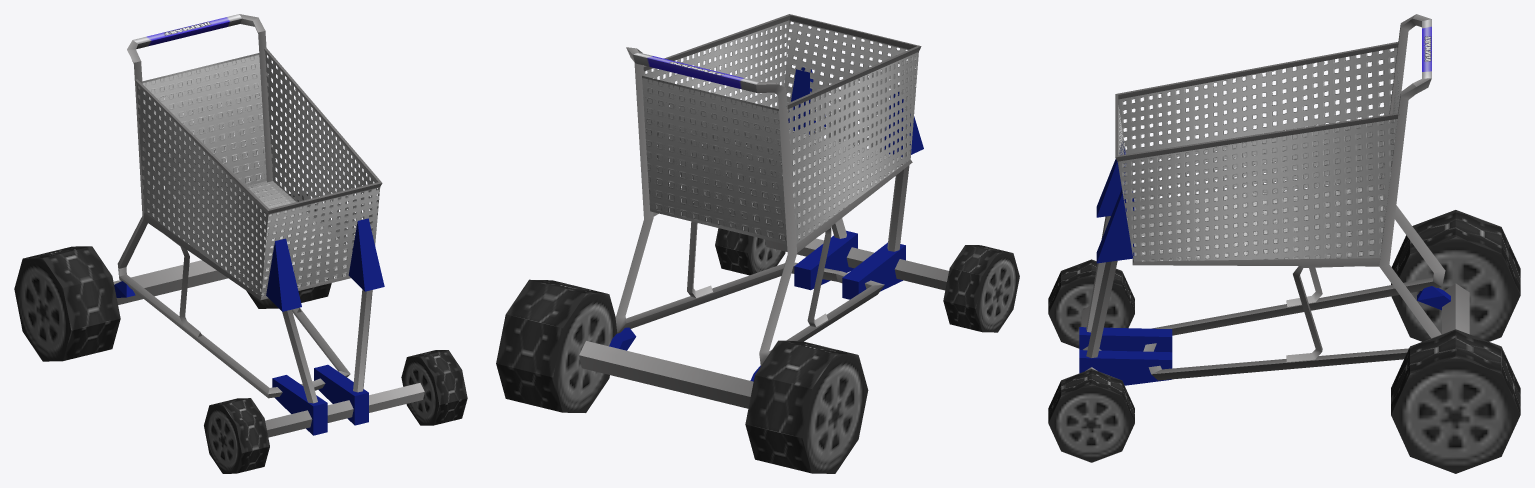
The model's file is Cart_OffRoad.fbx.
The picture shows the model from 3 angles, left to right: view 1: azimuth 30°, elevation 25°; view 2: azimuth 150°, elevation 25°; view 3: azimuth 270°, elevation 25°; orthographic projection. The views are drawn at different scales.
Parts seen in each view (by area): view 1: polySurface58; view 2: polySurface58; view 3: polySurface58.
Part boxes in pixels (x1,y1,x2,y2): polySurface58: (14, 14, 467, 473); polySurface58: (496, 14, 1019, 473); polySurface58: (1048, 14, 1520, 473).
Size of the model in its own units: 1.07 by 1.2 by 1.46.
